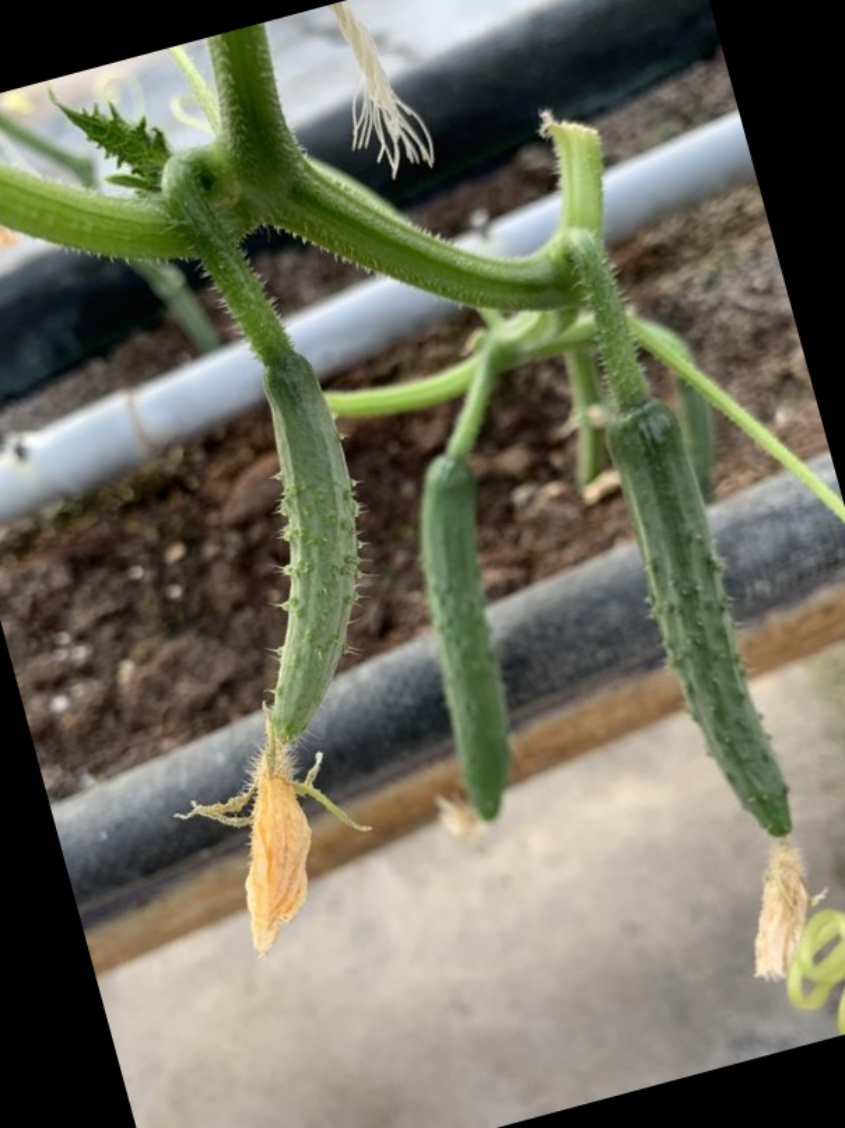growth: (600, 398, 797, 853)
